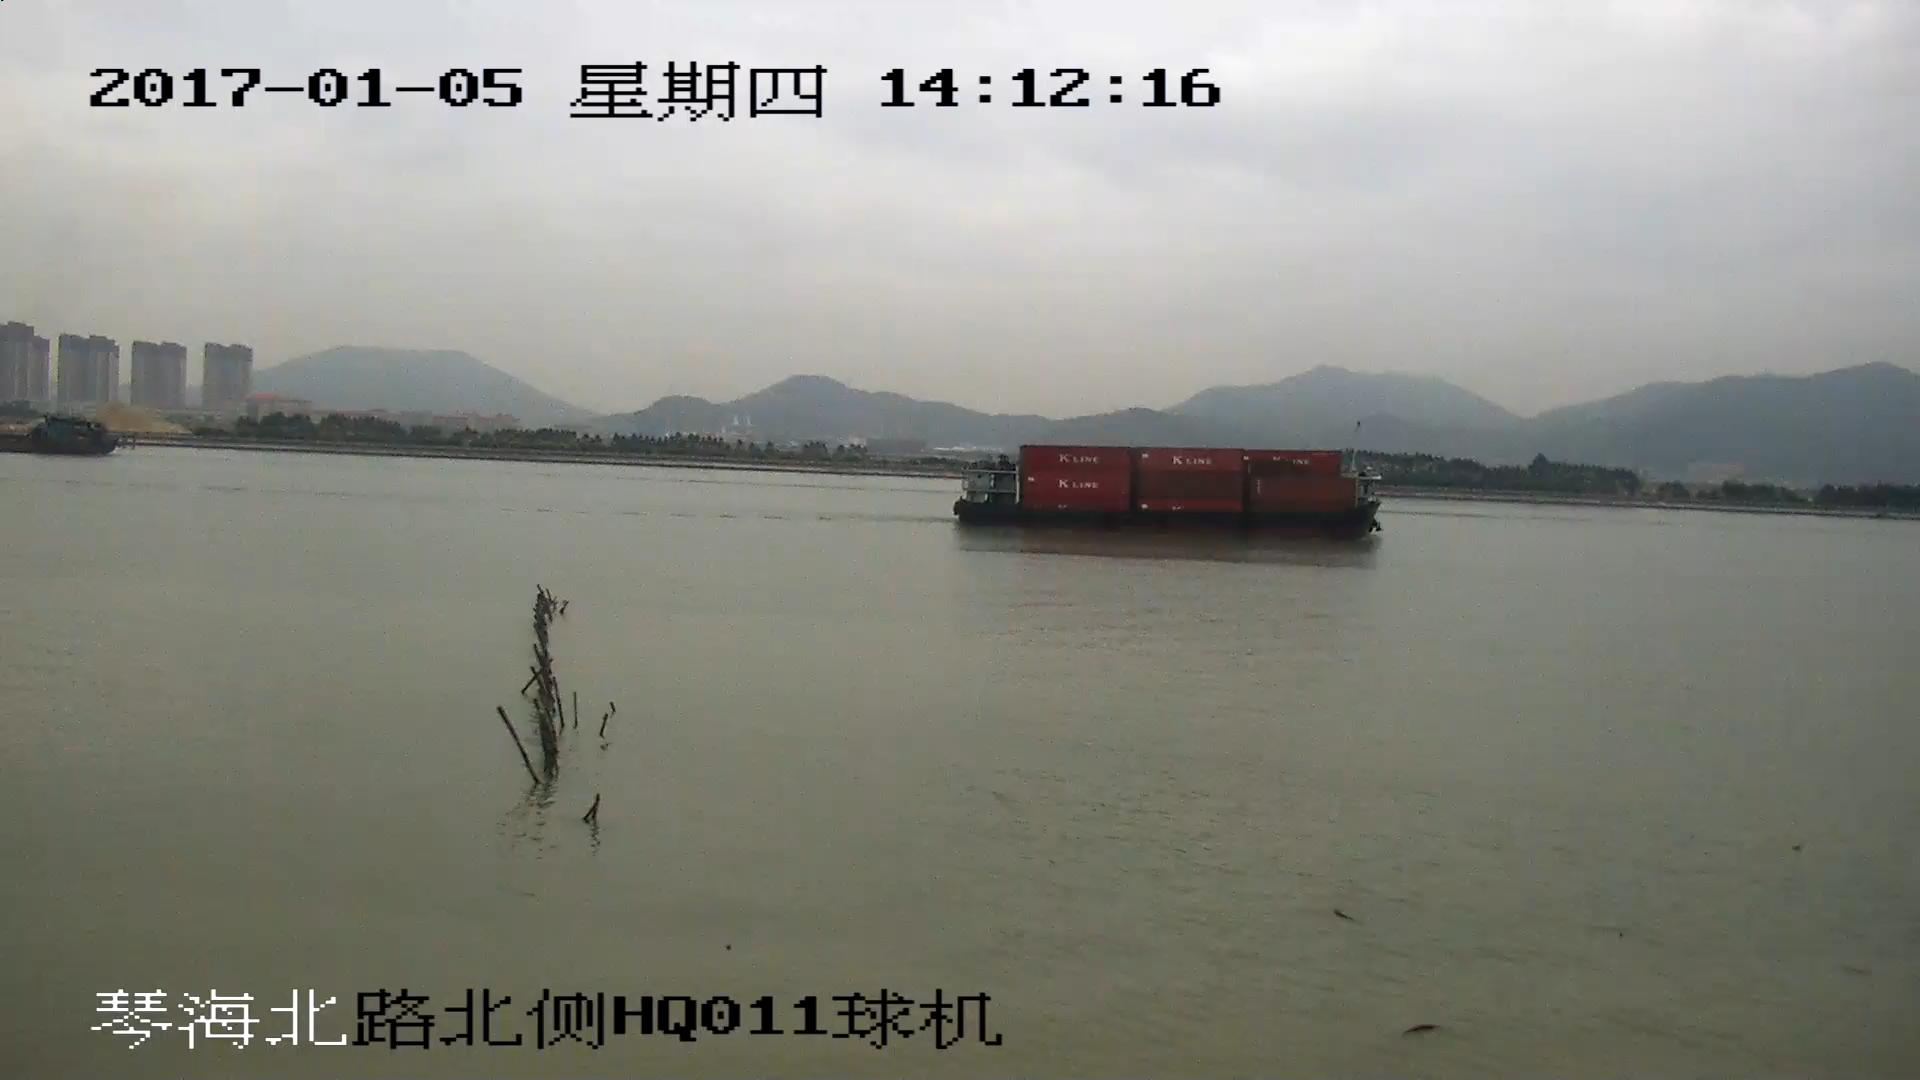bulk cargo carrier: (1, 423, 128, 457)
container ship: (946, 442, 1378, 542)
